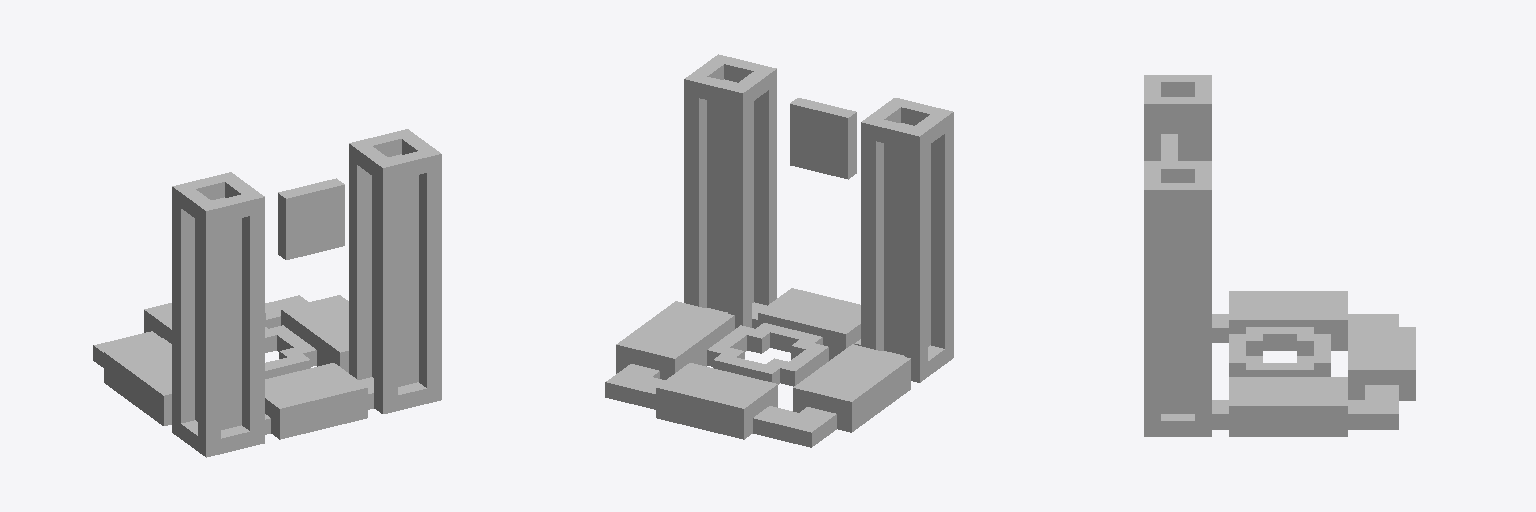
The model's file is TeleportPad.obj.
3 views of the same model, side by side, from view 1: azimuth 30°, elevation 25°; view 2: azimuth 150°, elevation 25°; view 3: azimuth 270°, elevation 25° (orthographic).
Bounding box in the file's own units: 1 × 1 × 1.